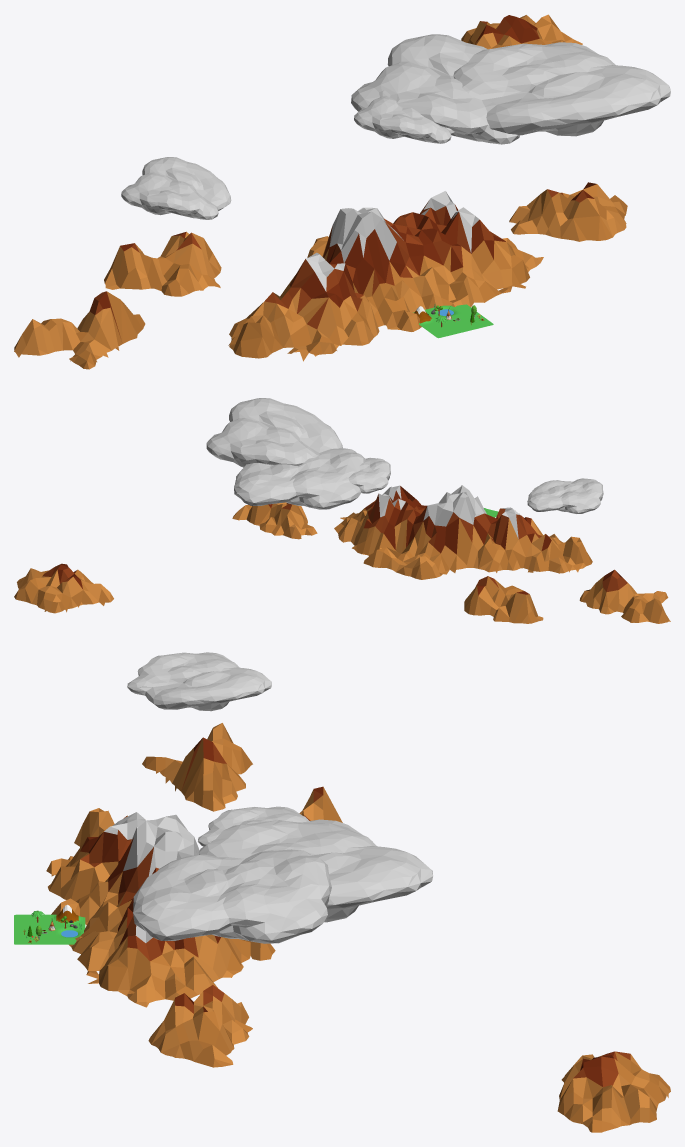
The model's file is pack.fbx.
3 views of the same model, one above another, from view 1: azimuth 30°, elevation 25°; view 2: azimuth 150°, elevation 25°; view 3: azimuth 270°, elevation 25° (orthographic). The views are drawn at different scales.
Visible parts, largest first — view 1: Плоскость.006, МСфера.003, МСфера.002, МСфера.001, МСфера.000, Плоскость.001; view 2: Плоскость.006, МСфера.003, МСфера.002, МСфера.001, МСфера.000; view 3: Плоскость.006, МСфера.003, МСфера.002, МСфера.001, Плоскость.001, МСфера.000.
Part boxes in pixels (bbox=[...]): Плоскость.006: bbox=[14, 14, 627, 369]; МСфера.003: bbox=[453, 42, 670, 136]; МСфера.002: bbox=[351, 34, 519, 144]; МСфера.001: bbox=[121, 157, 231, 219]; МСфера.000: bbox=[354, 90, 454, 143]; Плоскость.001: bbox=[413, 304, 493, 338]; Плоскость.006: bbox=[14, 485, 670, 623]; МСфера.003: bbox=[206, 398, 342, 467]; МСфера.002: bbox=[234, 448, 365, 509]; МСфера.001: bbox=[527, 478, 603, 513]; МСфера.000: bbox=[341, 457, 390, 493]; Плоскость.006: bbox=[46, 723, 670, 1132]; МСфера.003: bbox=[133, 849, 331, 943]; МСфера.002: bbox=[199, 819, 432, 922]; МСфера.001: bbox=[127, 652, 271, 711]; Плоскость.001: bbox=[14, 904, 85, 944]; МСфера.000: bbox=[198, 806, 317, 846].
Bounding box in the file's own units: 27063 × 5421 × 19128.
